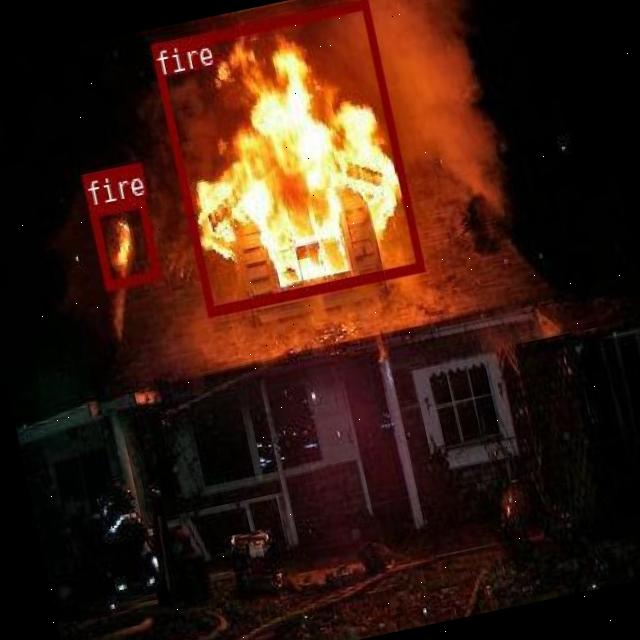fire: (149, 0, 423, 313), (88, 196, 158, 289)
